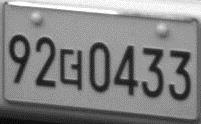0: (87, 41, 111, 93)
2: (34, 35, 57, 88)
3: (167, 49, 192, 100), (140, 47, 164, 98)
4: (112, 44, 139, 97)
9: (7, 33, 31, 84)
더: (58, 47, 83, 91)
